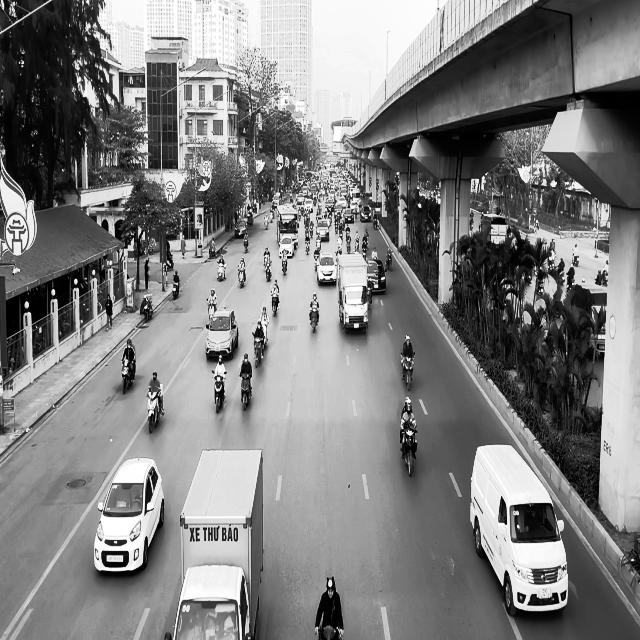car: (94, 456, 164, 574), (205, 308, 238, 360), (367, 259, 386, 293), (317, 252, 336, 284), (316, 219, 329, 241), (235, 219, 248, 237)
motorbike: (146, 384, 164, 433), (400, 425, 417, 476), (211, 370, 226, 413), (400, 352, 415, 391), (121, 356, 135, 394), (240, 372, 252, 411), (252, 330, 264, 367), (309, 303, 319, 332), (142, 295, 153, 321), (206, 297, 216, 322), (270, 290, 279, 316), (260, 320, 268, 348), (264, 256, 272, 281), (217, 259, 226, 281), (280, 251, 288, 274), (172, 280, 180, 300), (238, 266, 245, 288), (385, 251, 392, 270), (243, 236, 249, 252), (305, 235, 310, 254)
truck: (170, 448, 263, 640), (470, 444, 568, 616), (336, 252, 370, 334)
